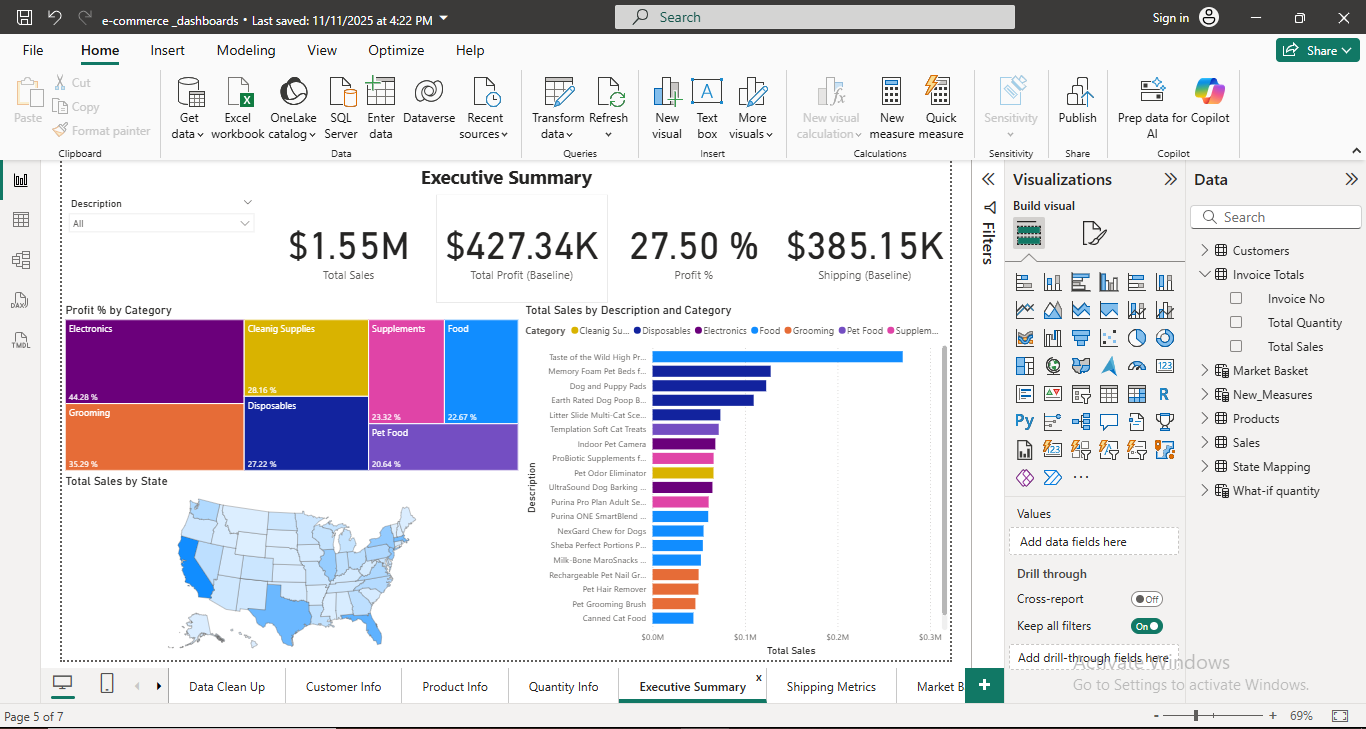

The dashboard page shown, as its layout file describes it:
{"tool":"powerbi","page":{"name":"Executive Summary","canvas":[1280,720],"ordinal":4},"visuals":[{"type":"shapeMap","title":"Total Sales by State","fields":{"Category":["State Mapping.State"],"Value":["Sum(Sales.Sales)"]},"box":[0,452.1,662.3,267.5],"z":0},{"type":"card","fields":{"Values":["Sum(Sales.Profit (Baseline))"]},"box":[538.7,49.7,247.1,156.7],"z":1000},{"type":"card","fields":{"Values":["Sum(Sales.Sales)"]},"box":[286.6,49.7,252.2,156.7],"z":2000},{"type":"card","fields":{"Values":["New_Measures.Profit %"]},"box":[785.8,49.7,247.1,156.7],"z":3000},{"type":"card","fields":{"Values":["Sales.Shipping (Baseline)"]},"box":[1032.9,49.7,247.1,156.7],"z":4000},{"type":"barChart","title":"Total Sales by Description and Category","fields":{"Category":["Sales.Description"],"Y":["Sum(Sales.Sales)"],"Series":["Products.Category"]},"box":[662.3,206.3,617.7,513.3],"z":5000},{"type":"slicer","fields":{"Values":["Products.Description"]},"box":[0,49.7,286.6,156.7],"z":6000},{"type":"treemap","fields":{"Group":["Products.Category","Products.Description"],"Values":["New_Measures.Profit %"]},"box":[0,206.2,661.9,246.1],"z":7000},{"type":"textbox","box":[0,0,1279.5,49.7],"z":8000}]}

Visuals, with their boxes on the page's 1280x720 design canvas (x1, y1, x2, y2). These are canvas units, not pixel positions in the 1366x729 screenshot, which may show the page scaled, cropped or inside an application window:
"Total Sales by State" shapeMap: box=[0, 452, 662, 720]
card - Sum(Sales.Profit (Baseline)): box=[539, 50, 786, 206]
card - Sum(Sales.Sales): box=[287, 50, 539, 206]
card - New_Measures.Profit %: box=[786, 50, 1033, 206]
card - Sales.Shipping (Baseline): box=[1033, 50, 1280, 206]
"Total Sales by Description and Category" barChart: box=[662, 206, 1280, 720]
slicer - Products.Description: box=[0, 50, 287, 206]
treemap - Products.Category x Products.Description: box=[0, 206, 662, 452]
textbox: box=[0, 0, 1280, 50]
